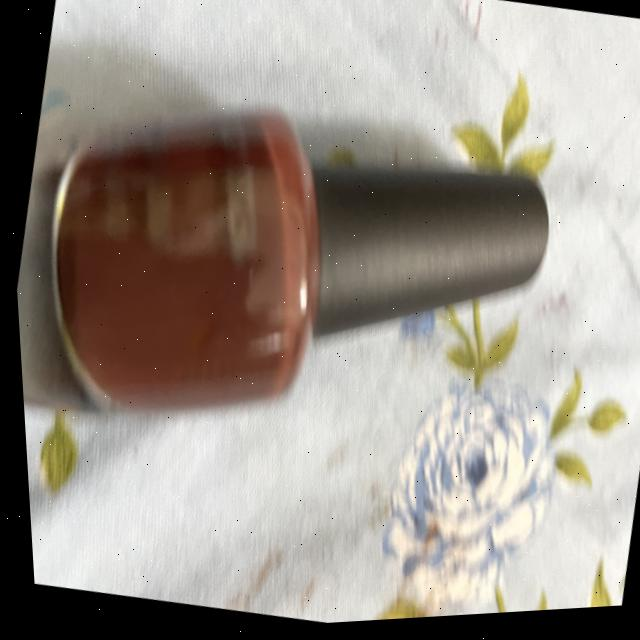nail polish: (2, 22, 597, 527)
